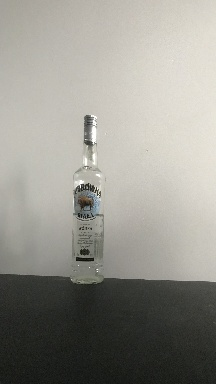butelka: (69, 111, 105, 287)
